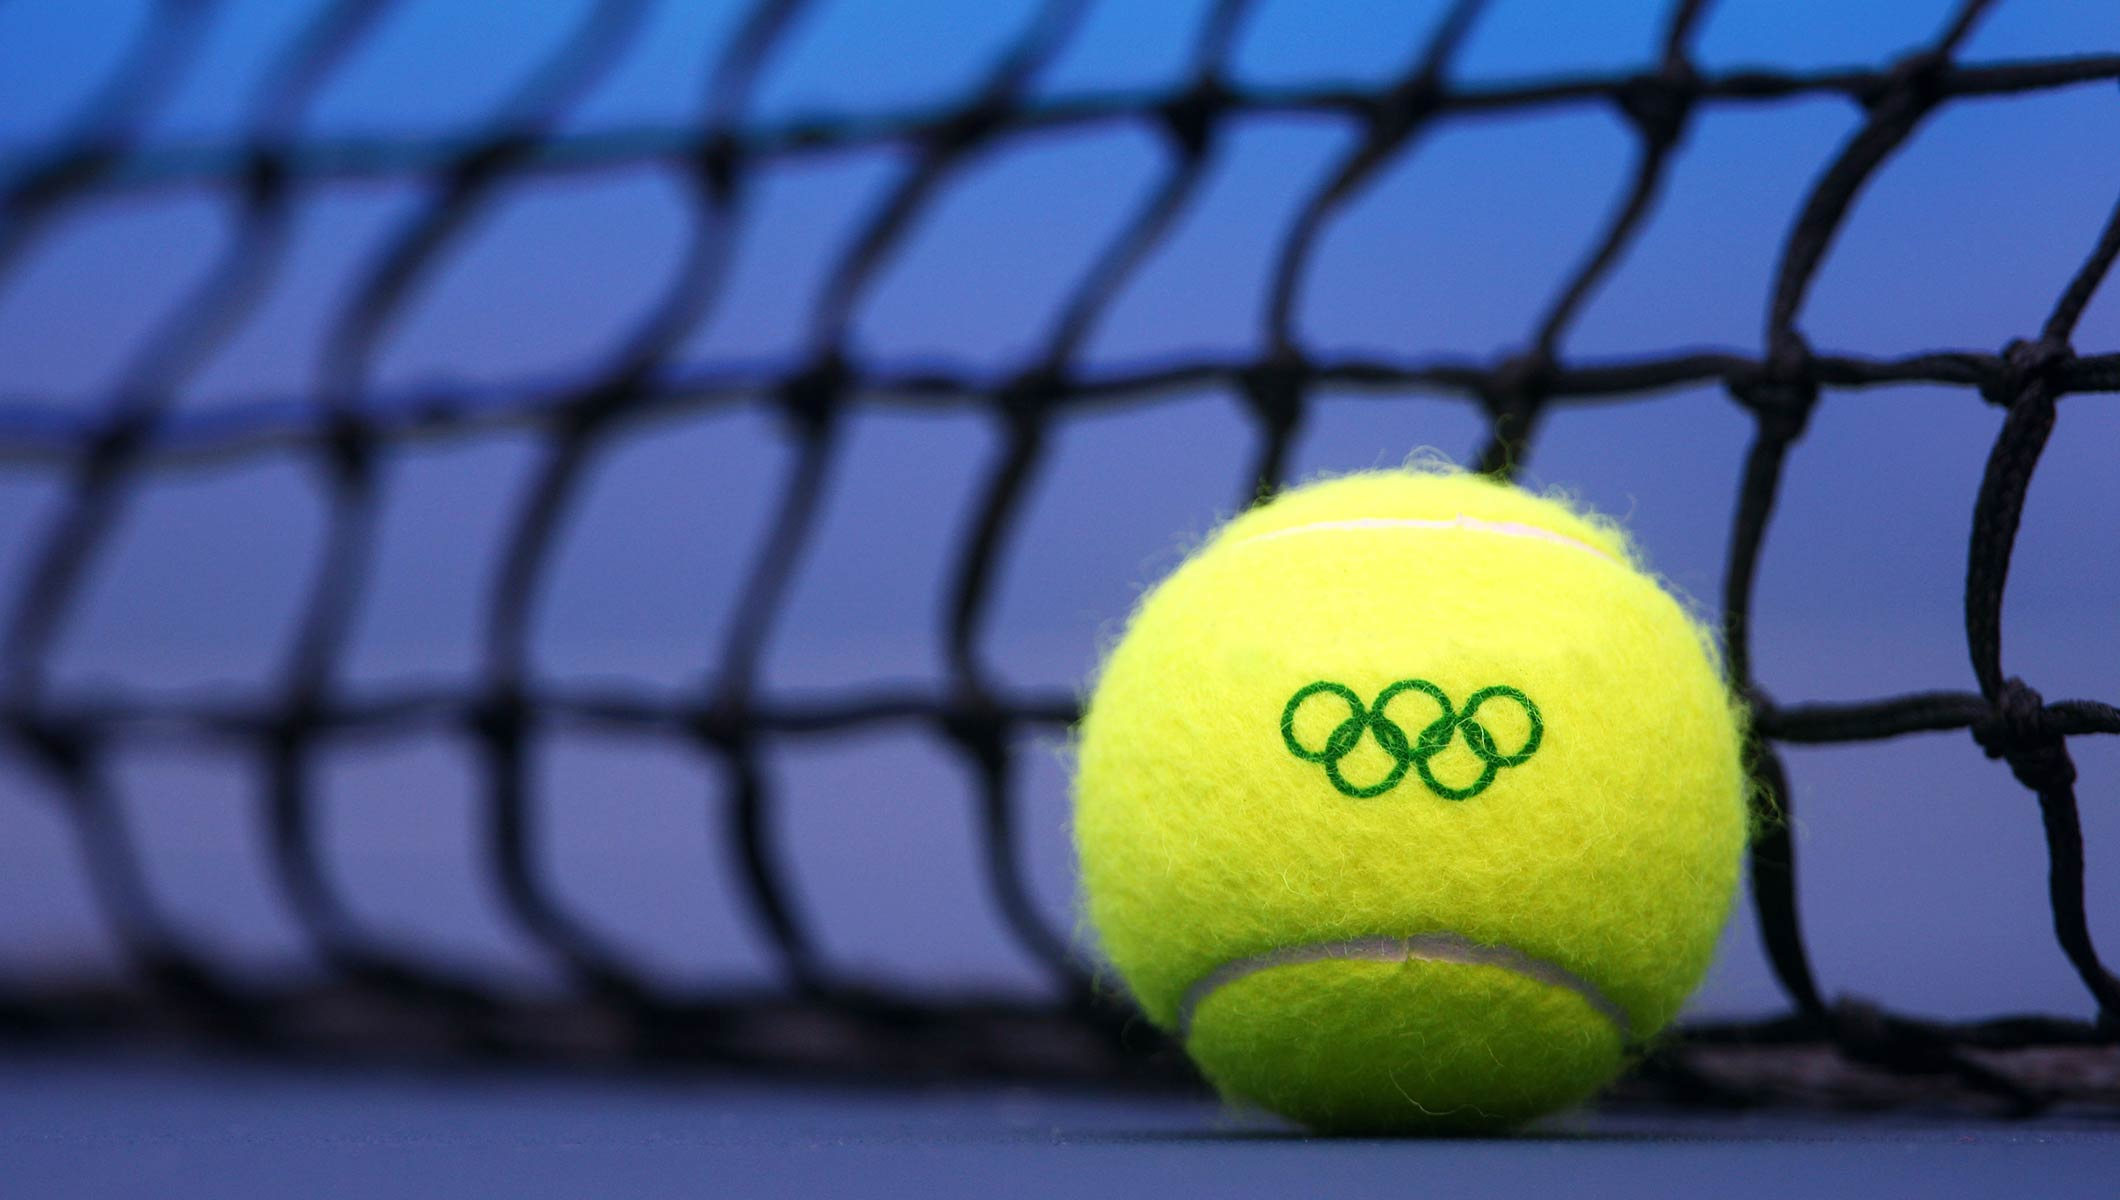tennis_ball: (1066, 463, 1756, 1150)
